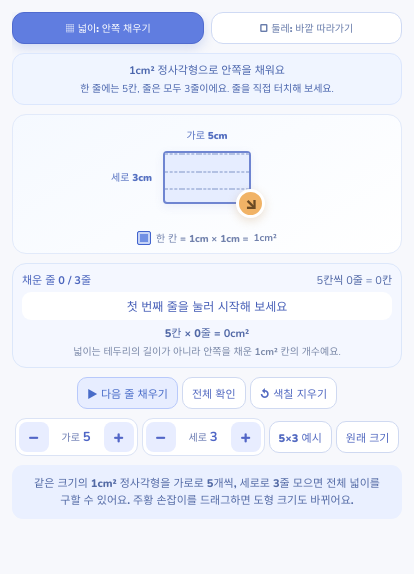
Test case: 1cm² 넓이와 cm 둘레를 직접 탐구한다 › 치수 변경 시 색칠 상태를 초기화하고 6×3의 새 값을 계산한다
Click the button "전체 확인".
click(214, 393)  # box [182,377,246,409]
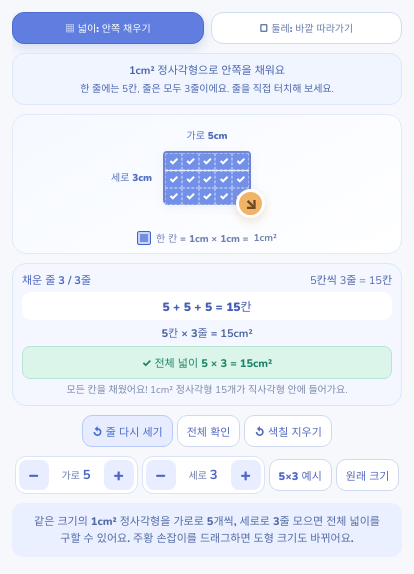
Click the button named "가로 늘리기".
click(119, 475)  # box [104,460,134,490]
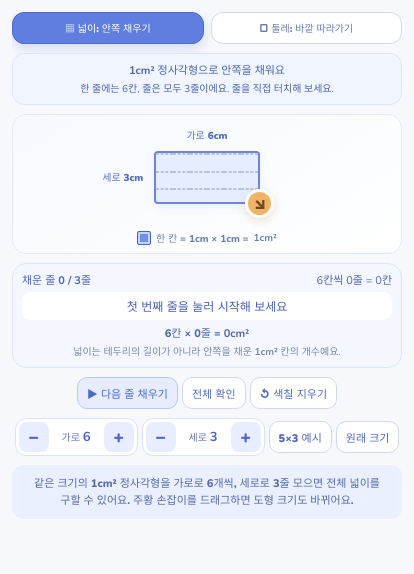
Result: the element named "가로 6칸 세로 3칸 직사각형" is shown at [154,151,260,204]
Result: the text "채운 줄 0 / 3줄" is shown at [22,271,91,288]
Click the button "전체 확인".
click(214, 393)  # box [182,377,246,409]
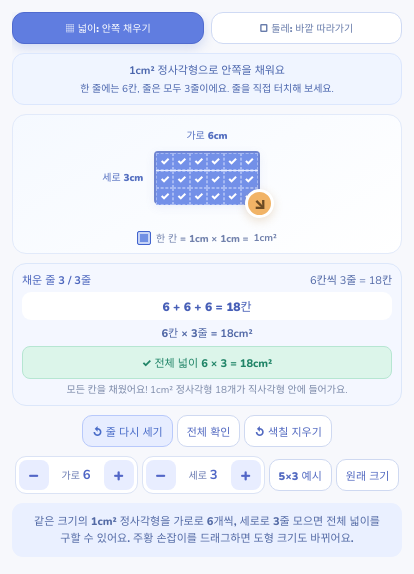
Result: the text "✓ 전체 넓이 6 × 3 = 18cm²" is shown at [22,346,392,379]
Click the button "5×3 예시".
click(300, 475)  # box [269,459,332,491]
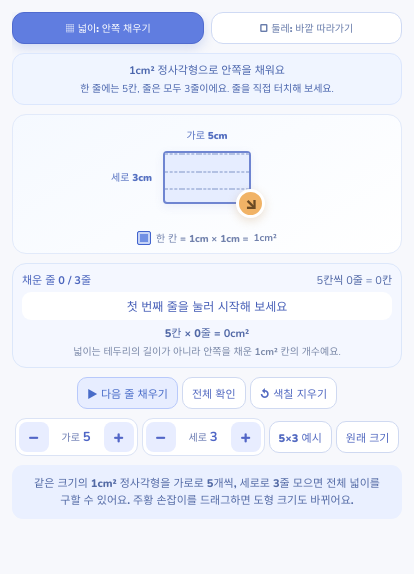
Result: the element named "가로 5칸 세로 3칸 직사각형" is shown at [163,151,251,204]
